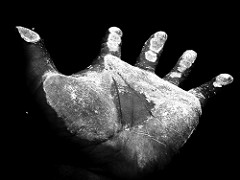palm: (73, 60, 174, 166)
